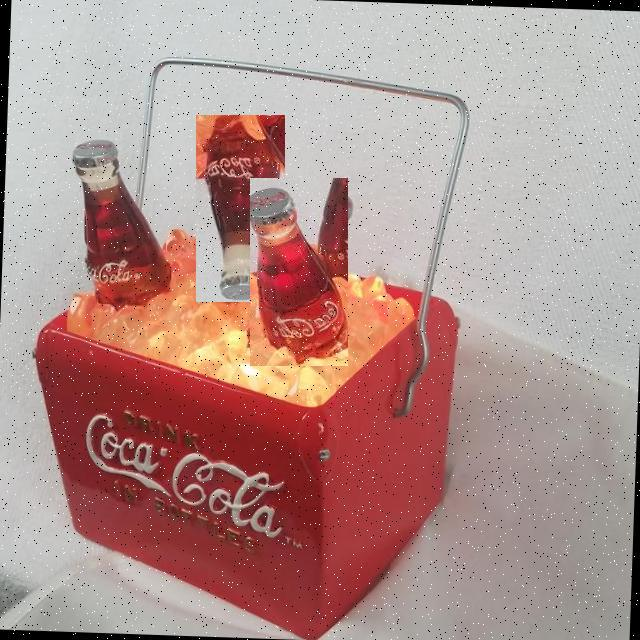coca-cola: (55, 126, 186, 322), (250, 178, 348, 366), (196, 115, 285, 302)
